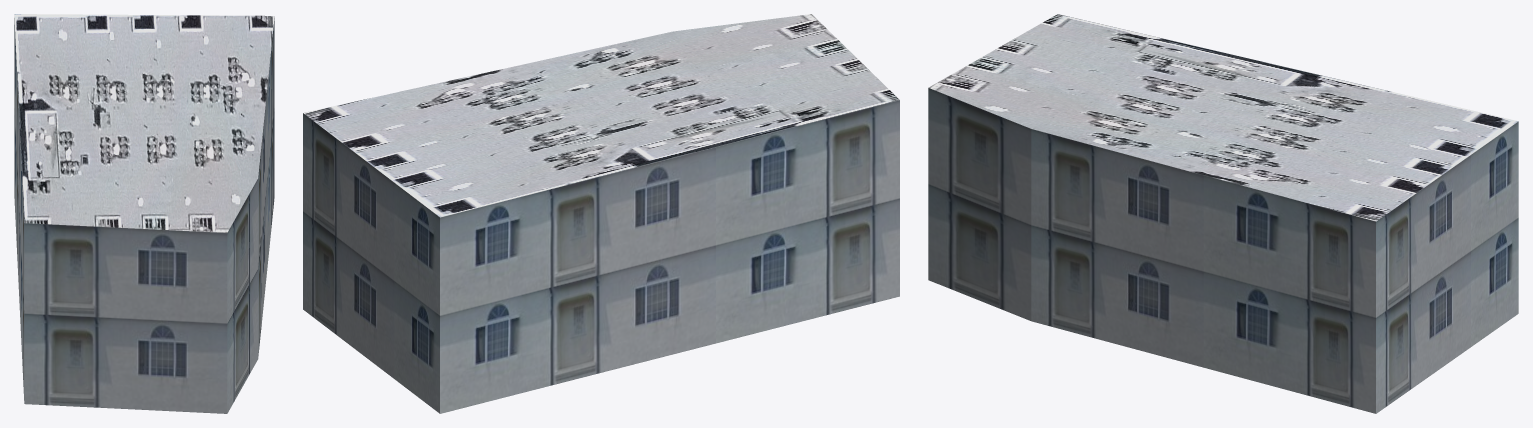
The model's file is ResTex__3819.fbx.
The picture shows the model from 3 angles, left to right: view 1: azimuth 30°, elevation 25°; view 2: azimuth 150°, elevation 25°; view 3: azimuth 270°, elevation 25°; orthographic projection. The views are drawn at different scales.
Visible parts, largest first — view 1: CityEngineMaterial_8_m, CityEngineMaterial_17_m; view 2: CityEngineMaterial_17_m, CityEngineMaterial_8_m; view 3: CityEngineMaterial_17_m, CityEngineMaterial_8_m.
Part boxes in pixels (bbox=[...]): CityEngineMaterial_8_m: bbox=[14, 14, 274, 232]; CityEngineMaterial_17_m: bbox=[14, 18, 274, 413]; CityEngineMaterial_17_m: bbox=[303, 100, 899, 413]; CityEngineMaterial_8_m: bbox=[303, 14, 899, 217]; CityEngineMaterial_17_m: bbox=[928, 88, 1518, 413]; CityEngineMaterial_8_m: bbox=[928, 14, 1518, 221].
Size of the model in its own units: 13.88 by 6 by 16.68.
Materials: 2 (2 with a texture image).
